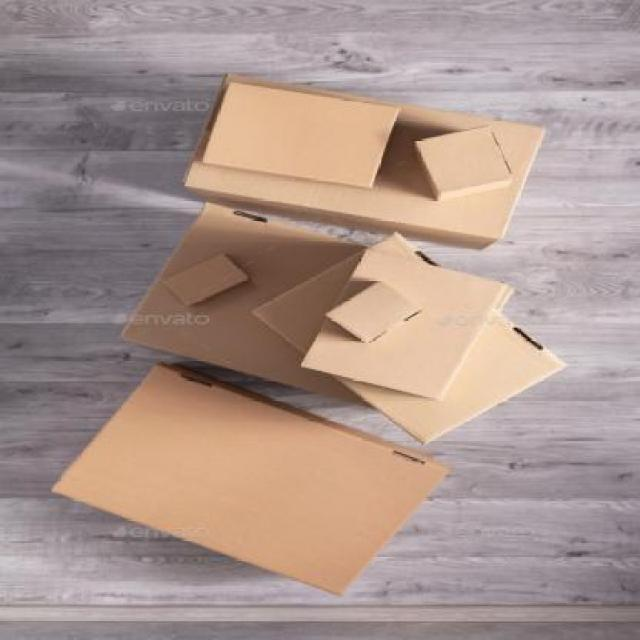box: (57, 366, 444, 603), (188, 72, 545, 252), (253, 235, 564, 439), (119, 202, 417, 398), (304, 245, 499, 403), (200, 81, 404, 195), (412, 125, 513, 202), (326, 279, 417, 343), (160, 248, 245, 309)
